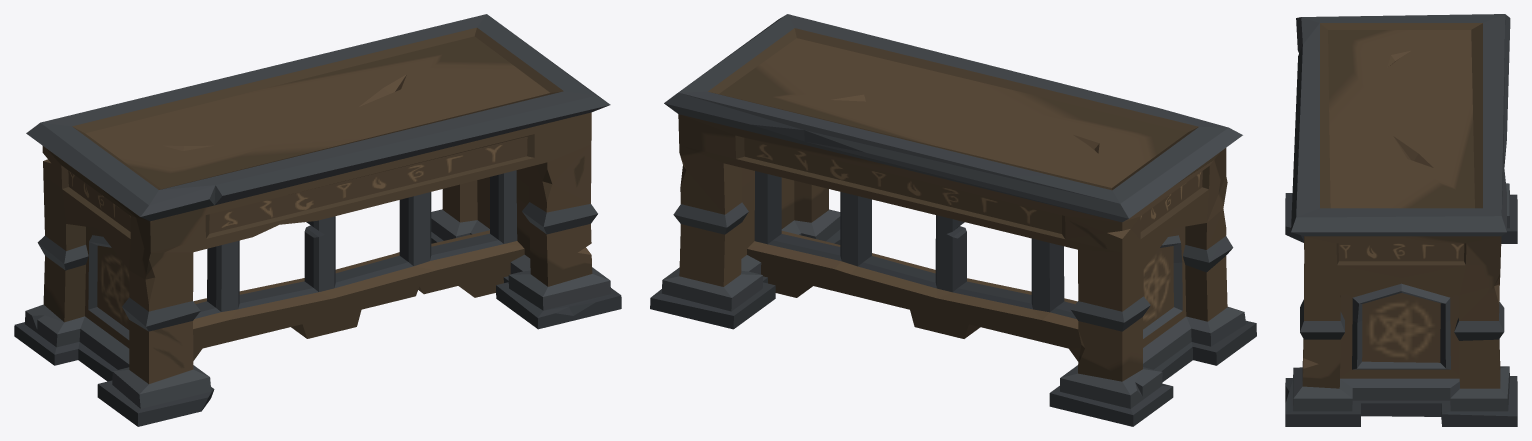
The model's file is crypt_altar.gltf.
The picture shows the model from 3 angles, left to right: view 1: azimuth 30°, elevation 25°; view 2: azimuth 150°, elevation 25°; view 3: azimuth 270°, elevation 25°; orthographic projection. The views are drawn at different scales.
Visible parts, largest first — view 1: crypt_altar; view 2: crypt_altar; view 3: crypt_altar.
Boxes of the visible parts, <box> form: crypt_altar: <box>14,14,621,426</box>; crypt_altar: <box>650,14,1256,426</box>; crypt_altar: <box>1285,14,1517,426</box>.
Bounding box in the file's own units: 2.03 × 0.8622 × 0.8992.
1 material, 1 textured.
